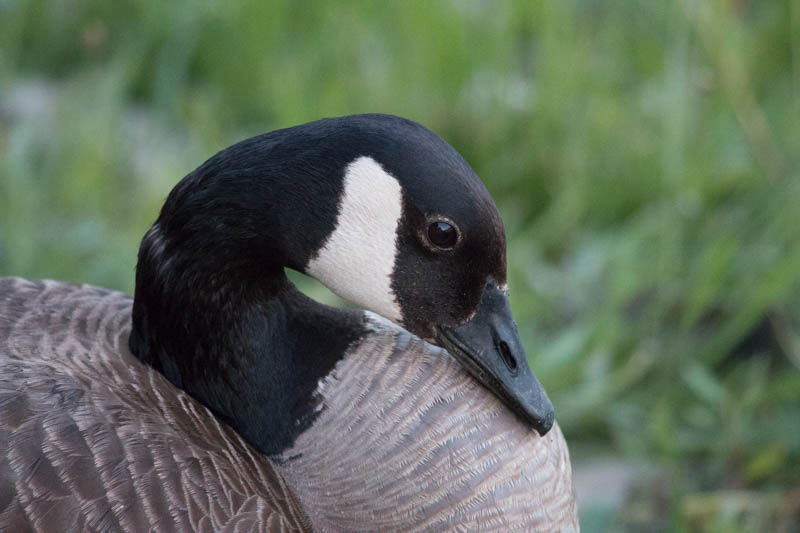goose-head: (278, 113, 556, 437)
